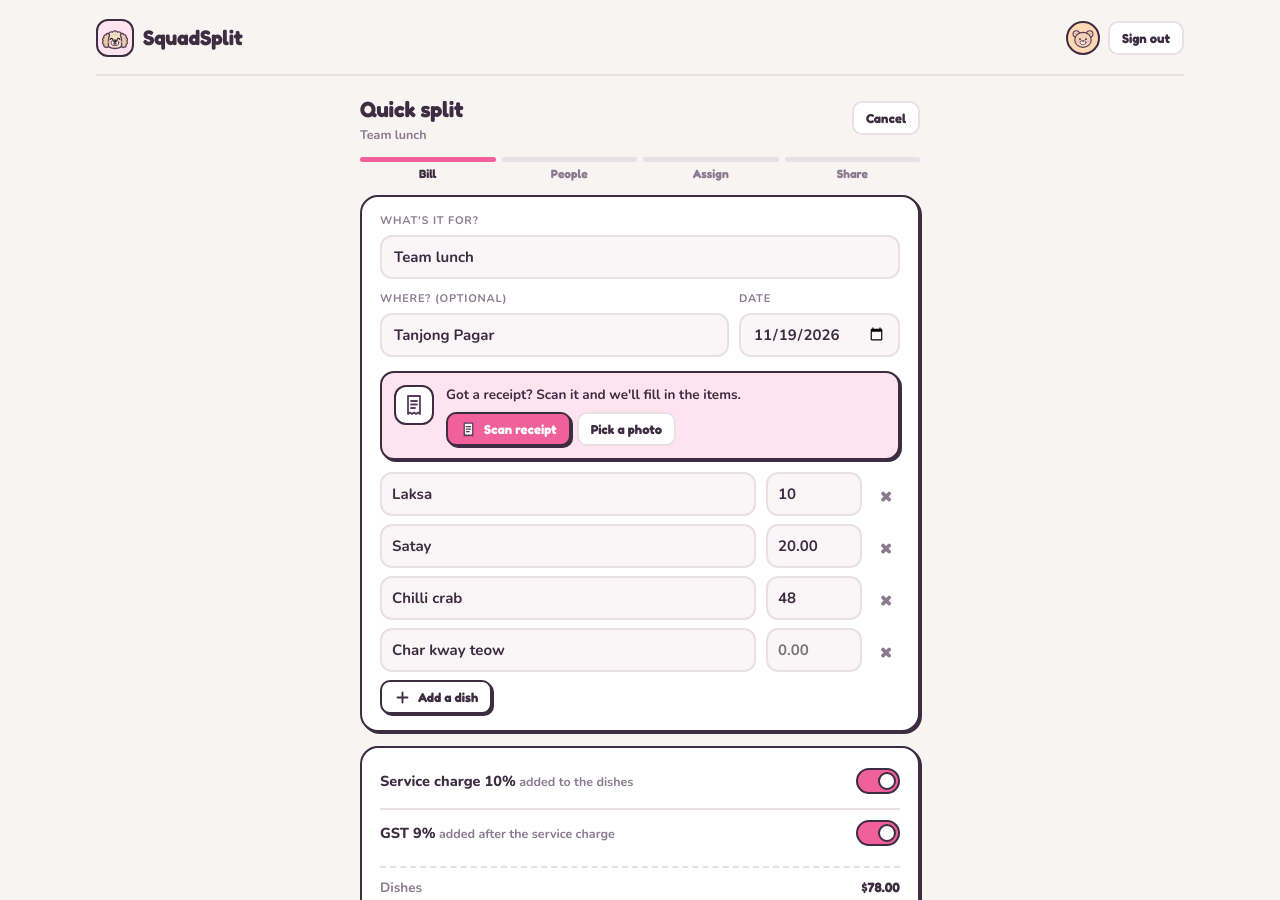
Quick split: making one › has separate service charge and GST toggles, both on at the SG rates, and stores 0 for one that is off
The image size is (1280, 900).
Earlier steps of the test are not shown.
Later steps or results of the test are not shown.
Type "8.50" into the field with placeholder "0.00" at (814, 650), box [766,628,862,672]
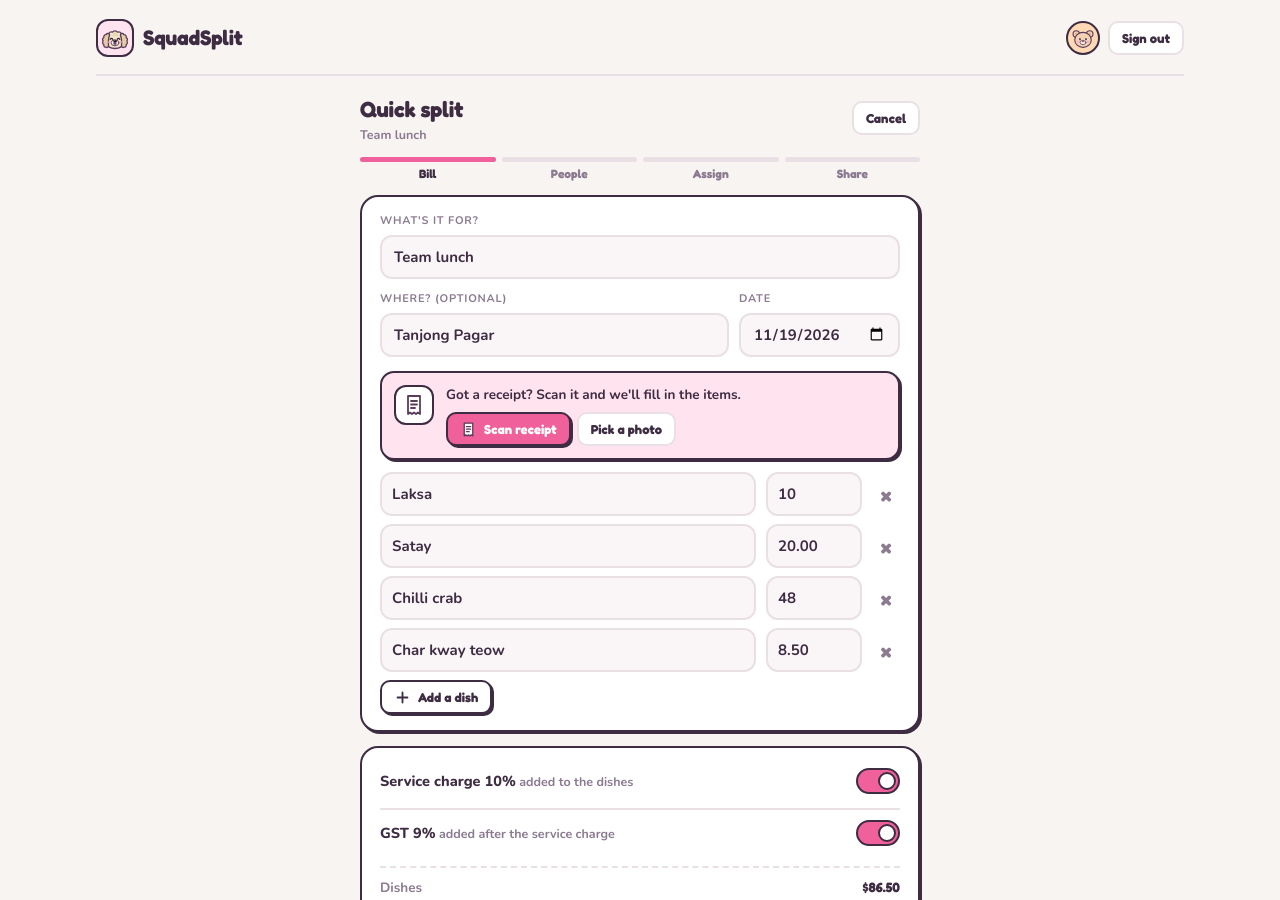
Click the button "Add a dish" at (436, 697), box [380,680,492,714]
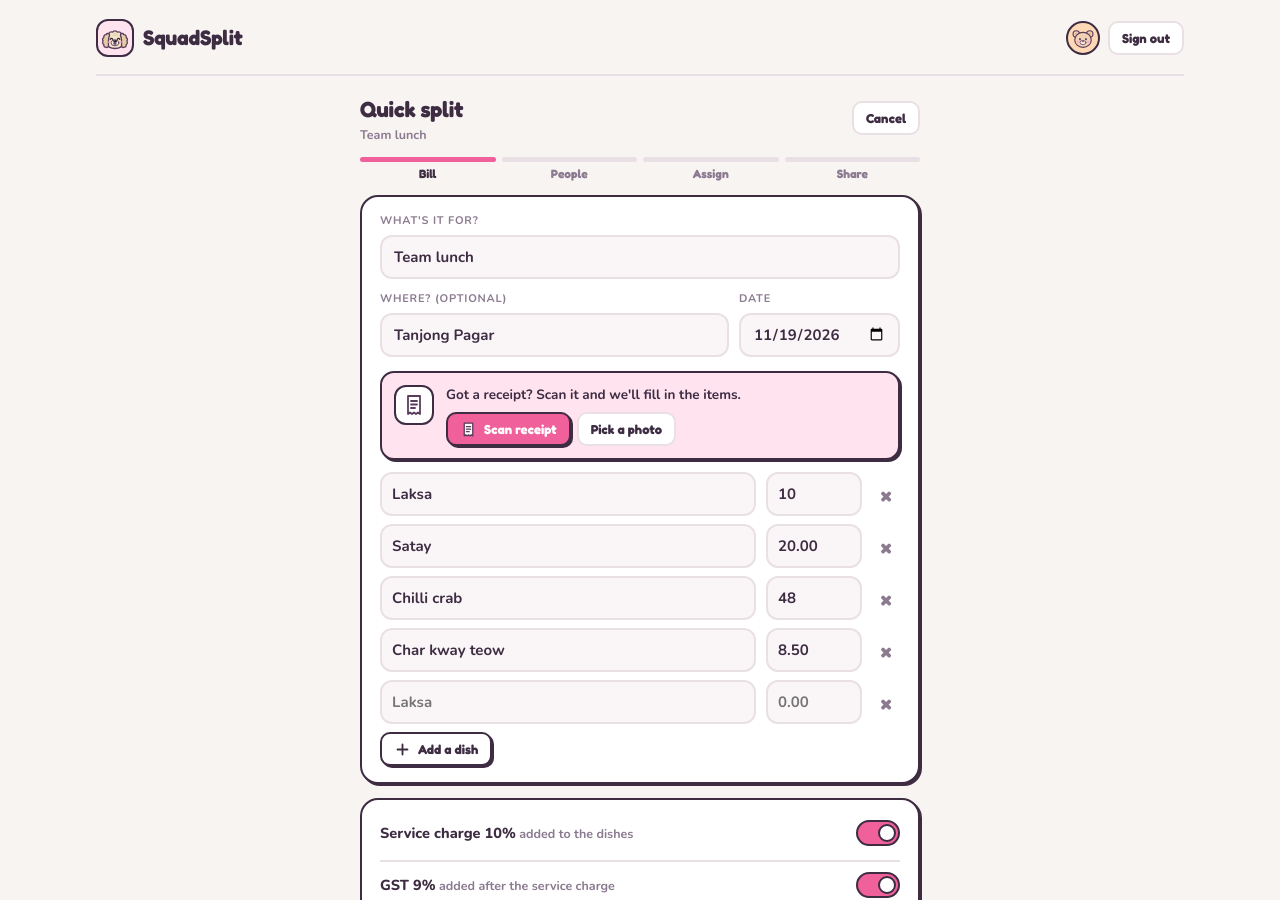
Type "Iced barley (2)" into the field with placeholder "Laksa" at (568, 702), box [380,680,756,724]
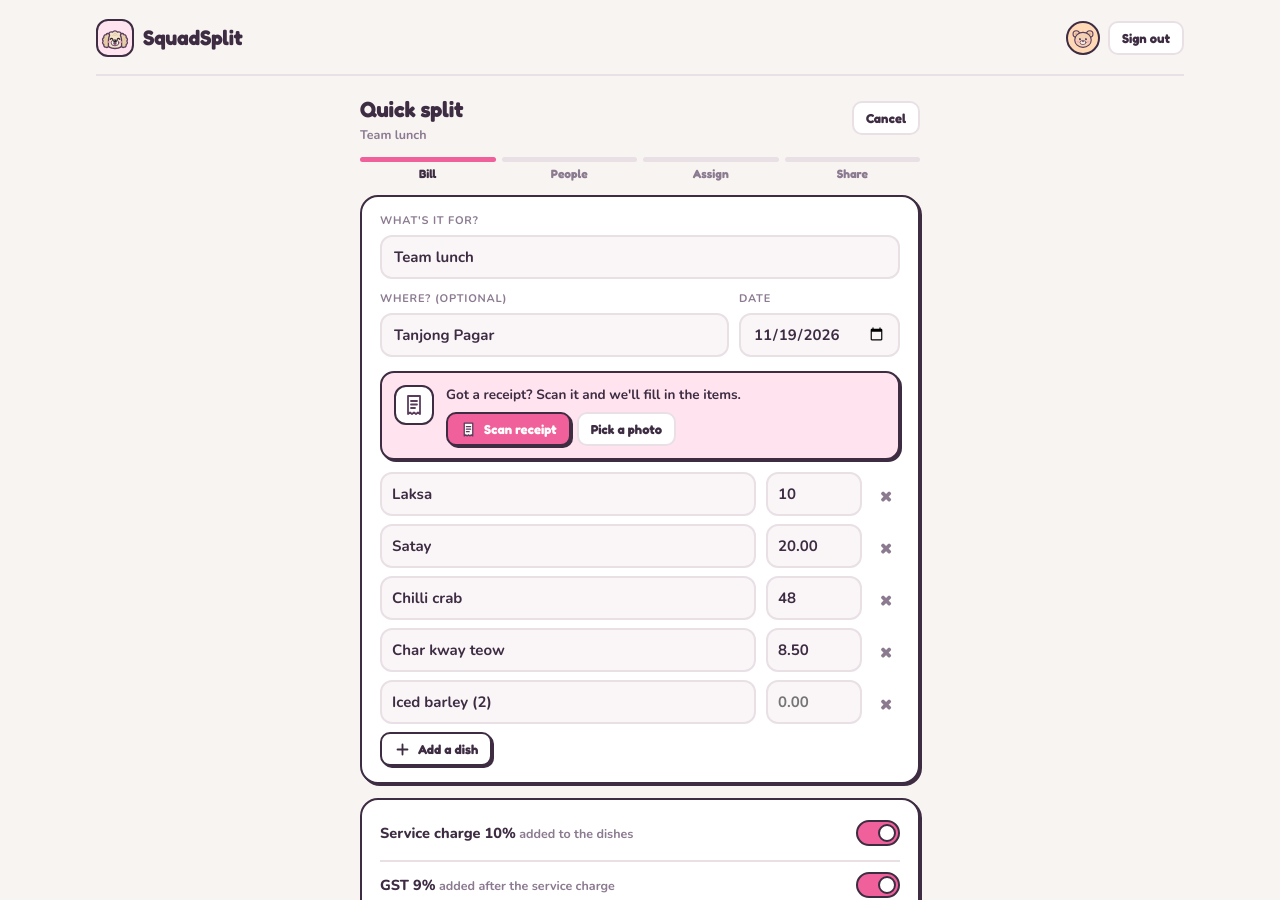
Type "5.60" into the field with placeholder "0.00" at (814, 702), box [766,680,862,724]
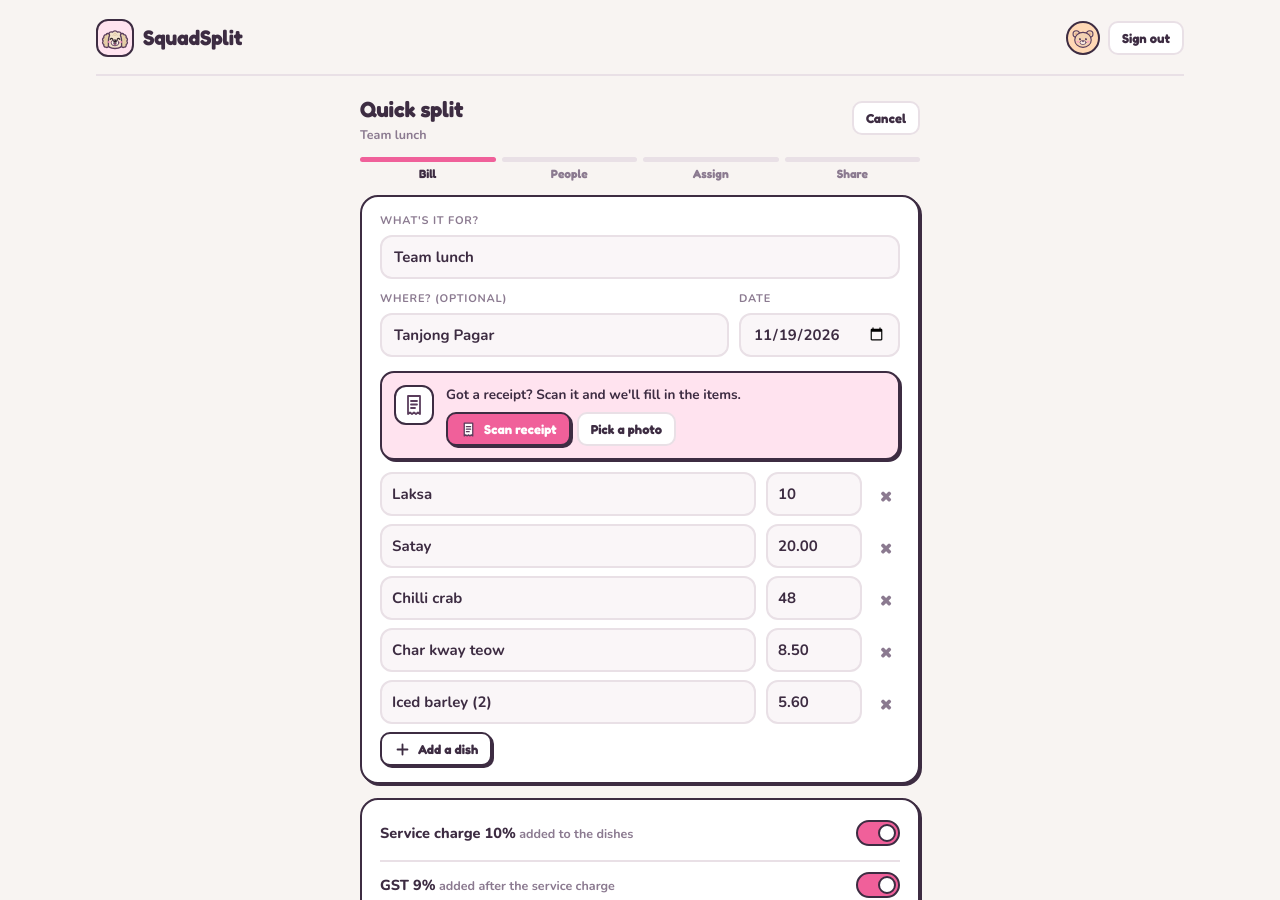
Click the switch labelled "Service charge 10% added to the dishes" at (878, 833), box [856,820,900,846]
(page scrolled)
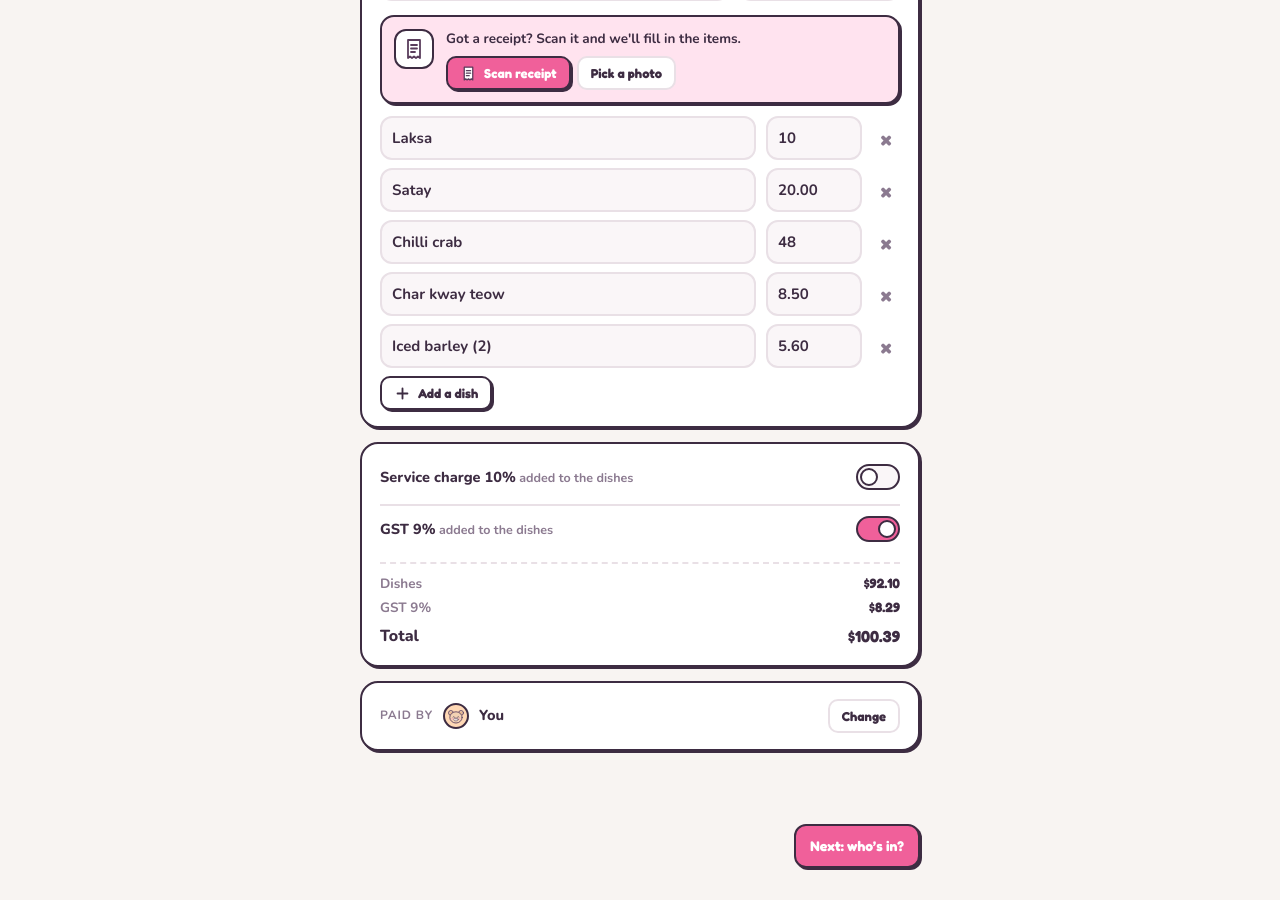
Check: the text "$100.39" is shown, box [848,626,900,649]
